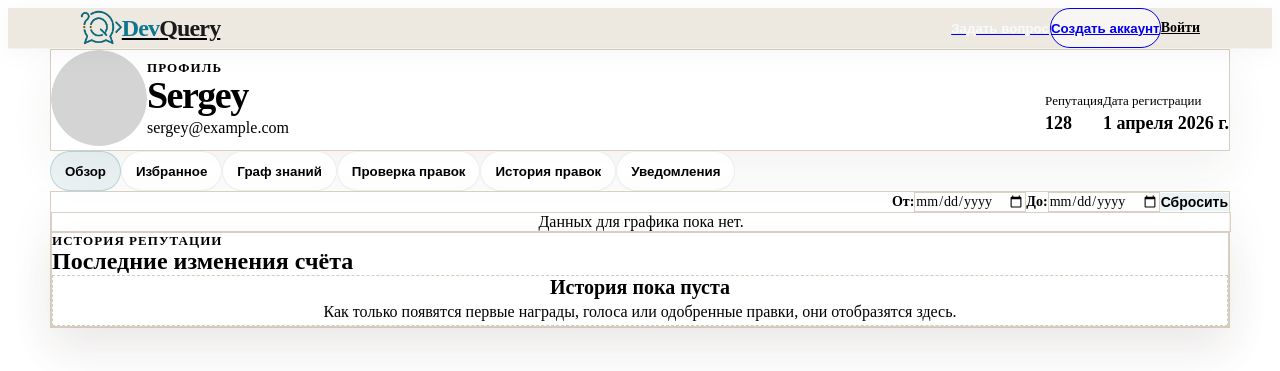
Test case: profile review shell › updates the route when switching tabs from the shell
What coordinates should you click on to do the following:
click the button with test id "profile-tab-history"
I would click on:
 (548, 171)
Its box is [480,151,616,191].
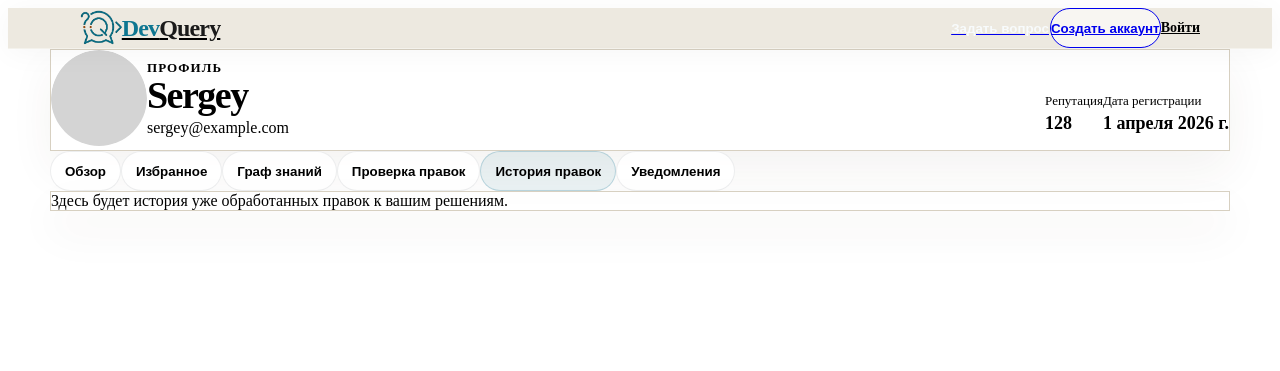
Expected: the text "Здесь будет история уже обработанных правок к вашим решениям." is shown, [51,192,508,209]
